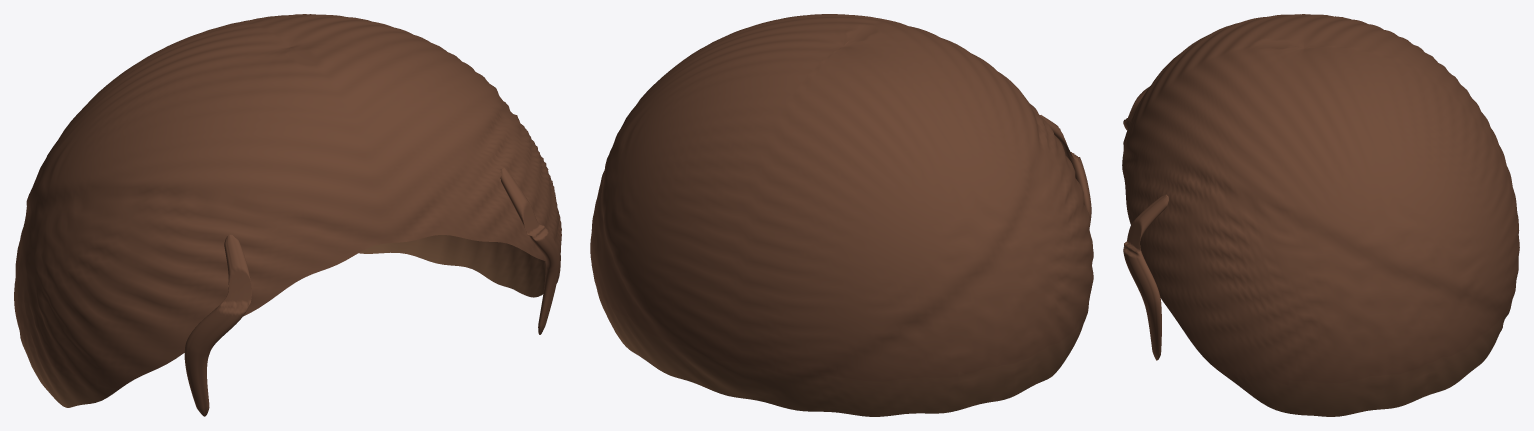
Rendered from Ombre-b977d45a968c253-hair.glb.
3 renders of one model, left to right at view 1: azimuth 30°, elevation 25°; view 2: azimuth 150°, elevation 25°; view 3: azimuth 270°, elevation 25°, orthographic. The views are drawn at different scales.
Parts seen in each view (by area): view 1: 226 hair / Hair / chestnut226.002; view 2: 226 hair / Hair / chestnut226.002; view 3: 226 hair / Hair / chestnut226.002.
Part boxes in pixels (x1,y1,x2,y2): 226 hair / Hair / chestnut226.002: (14,14,561,416); 226 hair / Hair / chestnut226.002: (590,14,1093,416); 226 hair / Hair / chestnut226.002: (1122,14,1519,416).
Bounding box in the file's own units: 0.9981 × 0.5981 × 0.7846.
1 material, 1 textured.
